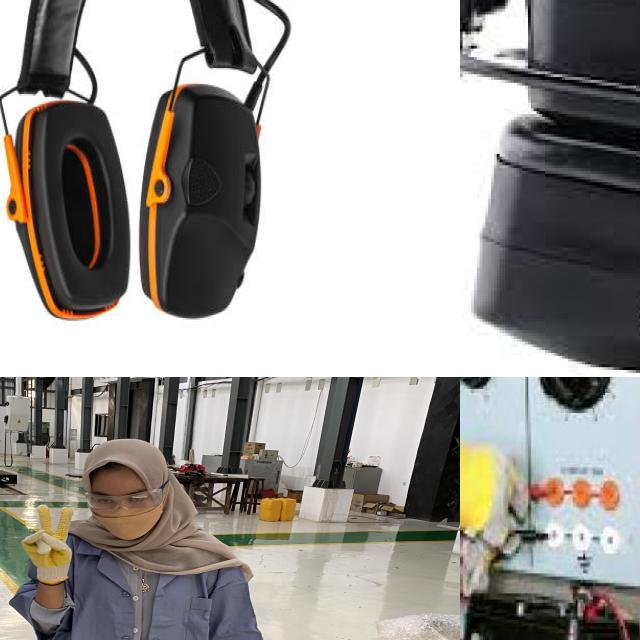Ear-protection: (0, 0, 292, 335), (465, 108, 640, 375), (508, 0, 640, 168)
face_mask: (88, 486, 161, 545)
glasses: (82, 475, 172, 515)
hand_glove: (460, 441, 514, 596), (15, 505, 84, 576)
head_nohelmet: (83, 435, 167, 481)
person: (3, 435, 276, 640)
